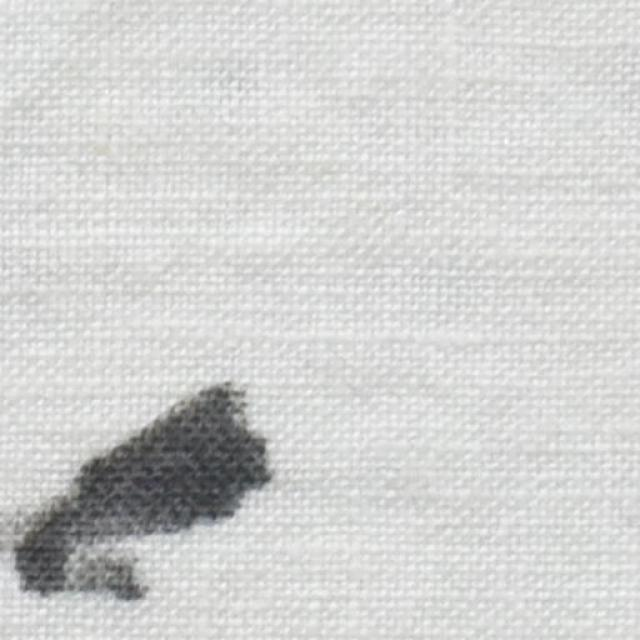Stain: (0, 384, 270, 601)
